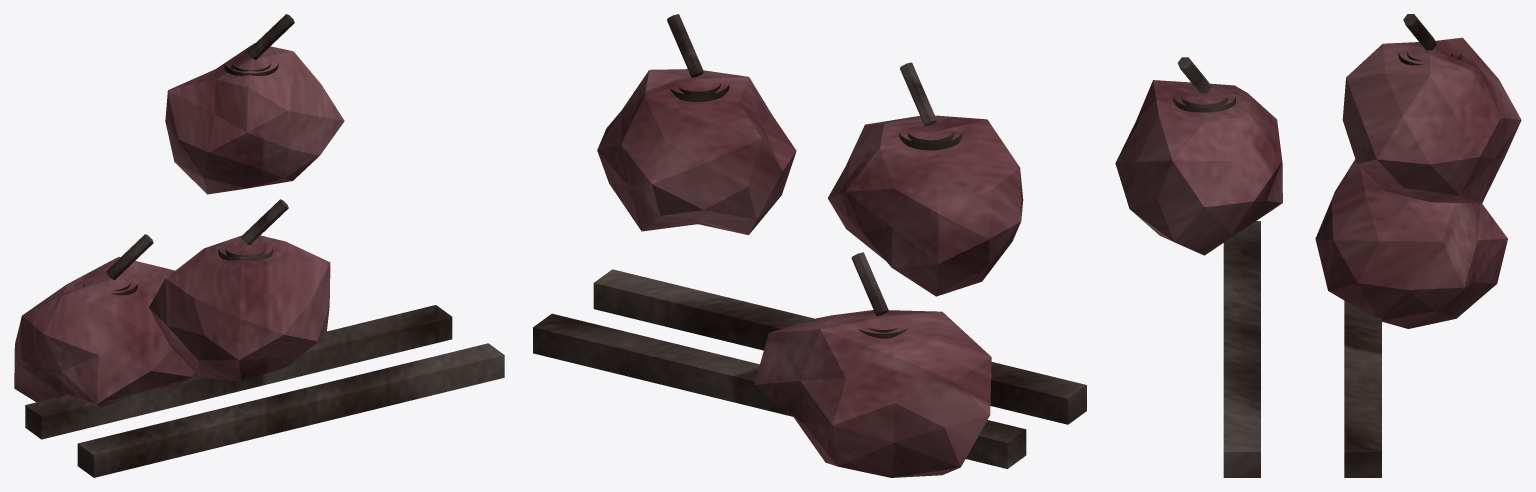
The model's file is 0825_sack_stack_25.glb.
3 views of the same model, side by side, from view 1: azimuth 30°, elevation 25°; view 2: azimuth 150°, elevation 25°; view 3: azimuth 270°, elevation 25° (orthographic). The views are drawn at different scales.
Parts seen in each view (by area): view 1: cloth, wood_dark; view 2: cloth, wood_dark; view 3: cloth, wood_dark.
Boxes of the visible parts, box(x1,y1,x2,y2) form: cloth: box(14, 43, 344, 408); wood_dark: box(25, 14, 504, 477); cloth: box(597, 69, 1023, 477); wood_dark: box(533, 14, 1086, 468); cloth: box(1115, 37, 1521, 328); wood_dark: box(1173, 14, 1461, 477).
Bounding box in the file's own units: 1.9 × 1.52 × 1.41.
Materials: 2 (2 with a texture image).
